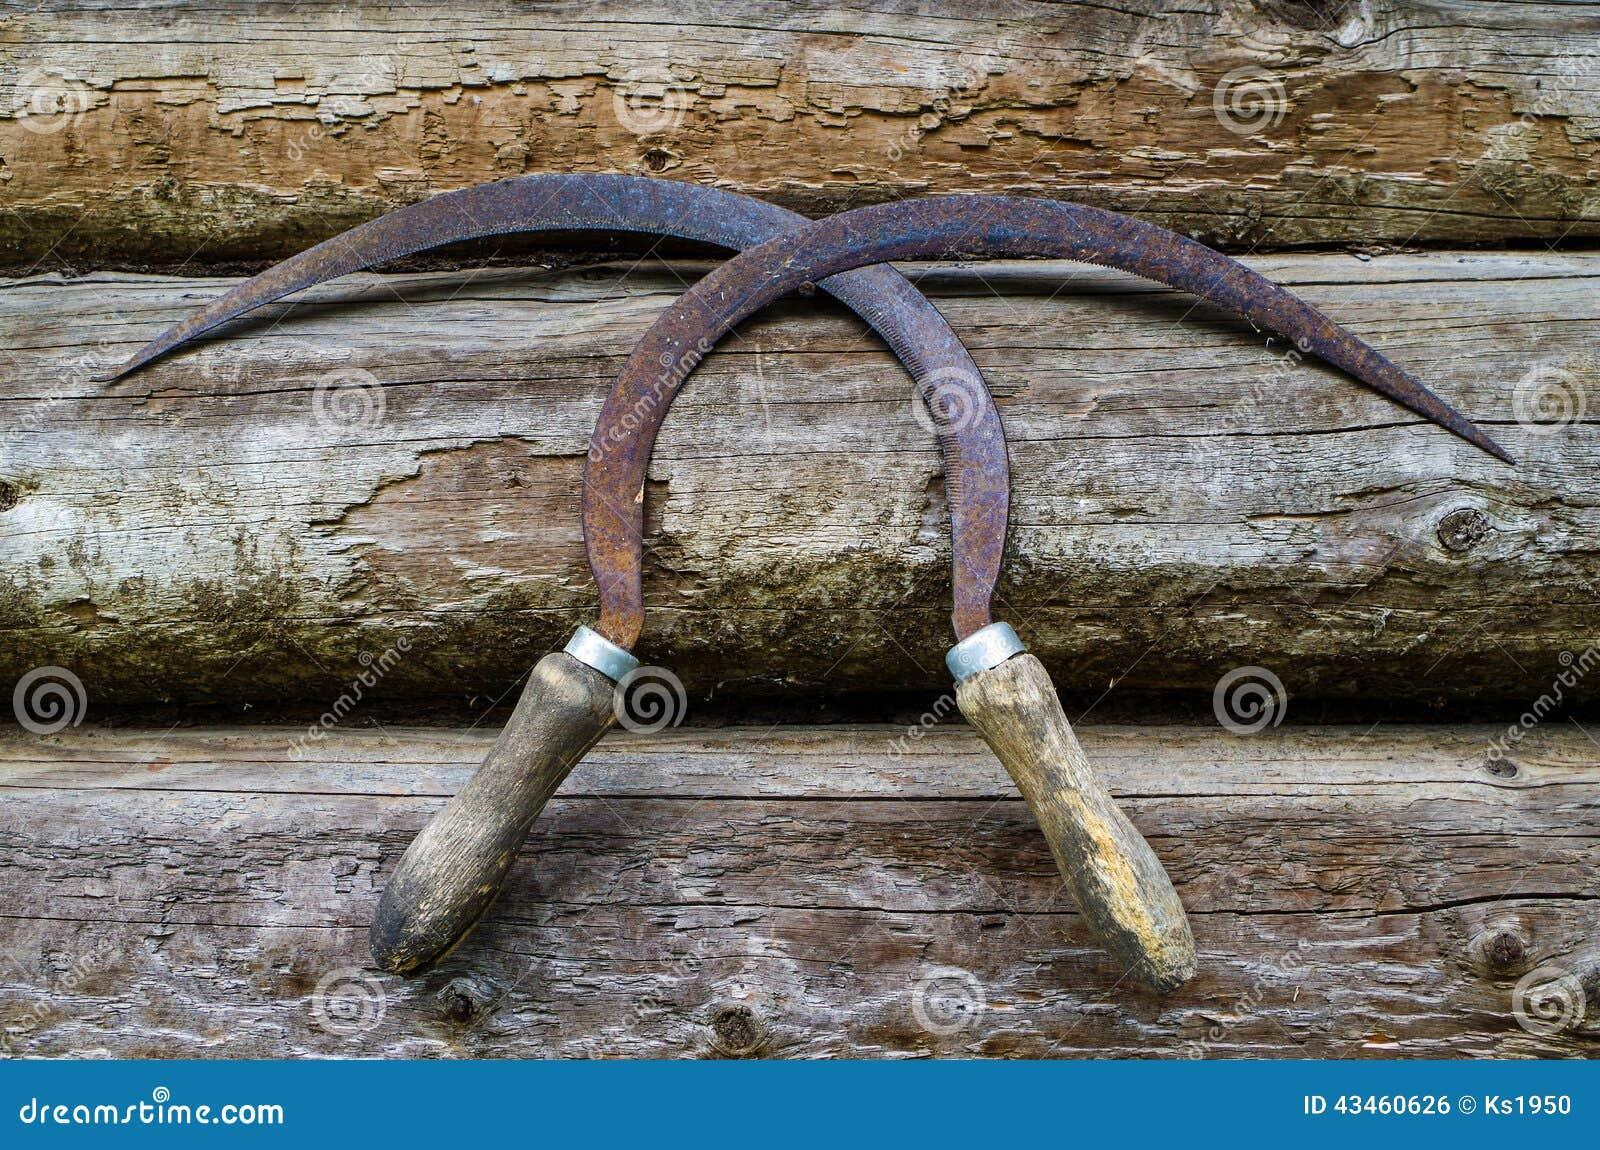foice: (93, 174, 1196, 989), (371, 195, 1512, 972)
